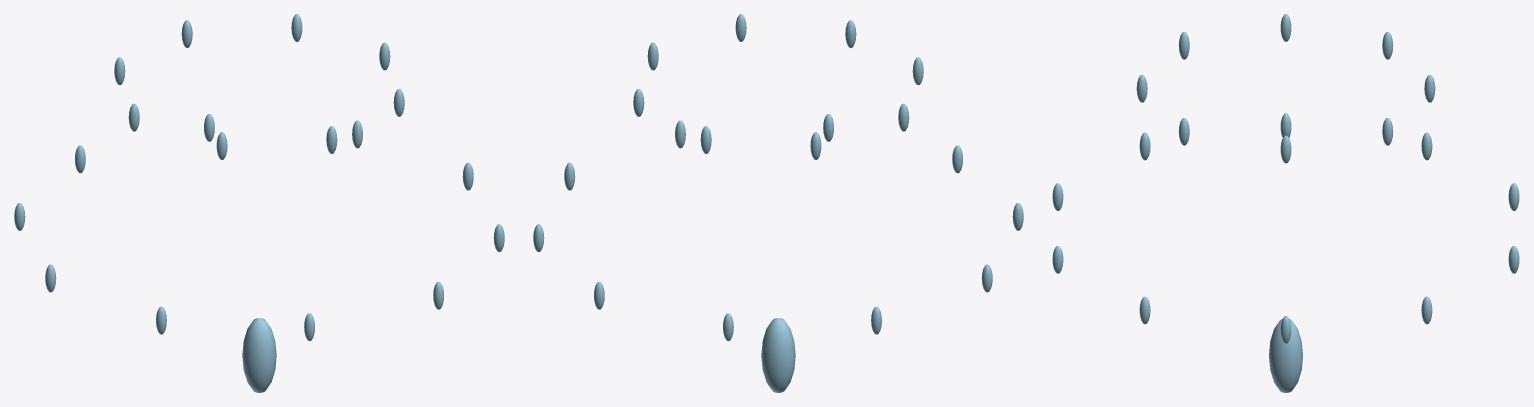
File: KRM_M36_P5MODL_crystals.fbx
3 views of the same model, side by side, from view 1: azimuth 30°, elevation 25°; view 2: azimuth 150°, elevation 25°; view 3: azimuth 270°, elevation 25° (orthographic).
Parts seen in each view (by area): view 1: KRM_M36_P5MODL_crystals; view 2: KRM_M36_P5MODL_crystals; view 3: KRM_M36_P5MODL_crystals.
Boxes of the visible parts, <box> form: KRM_M36_P5MODL_crystals: <box>14,14,504,392</box>; KRM_M36_P5MODL_crystals: <box>533,14,1023,392</box>; KRM_M36_P5MODL_crystals: <box>1052,14,1519,392</box>.
Size of the model in its own units: 143 by 103 by 136.
1 material, 1 textured.
